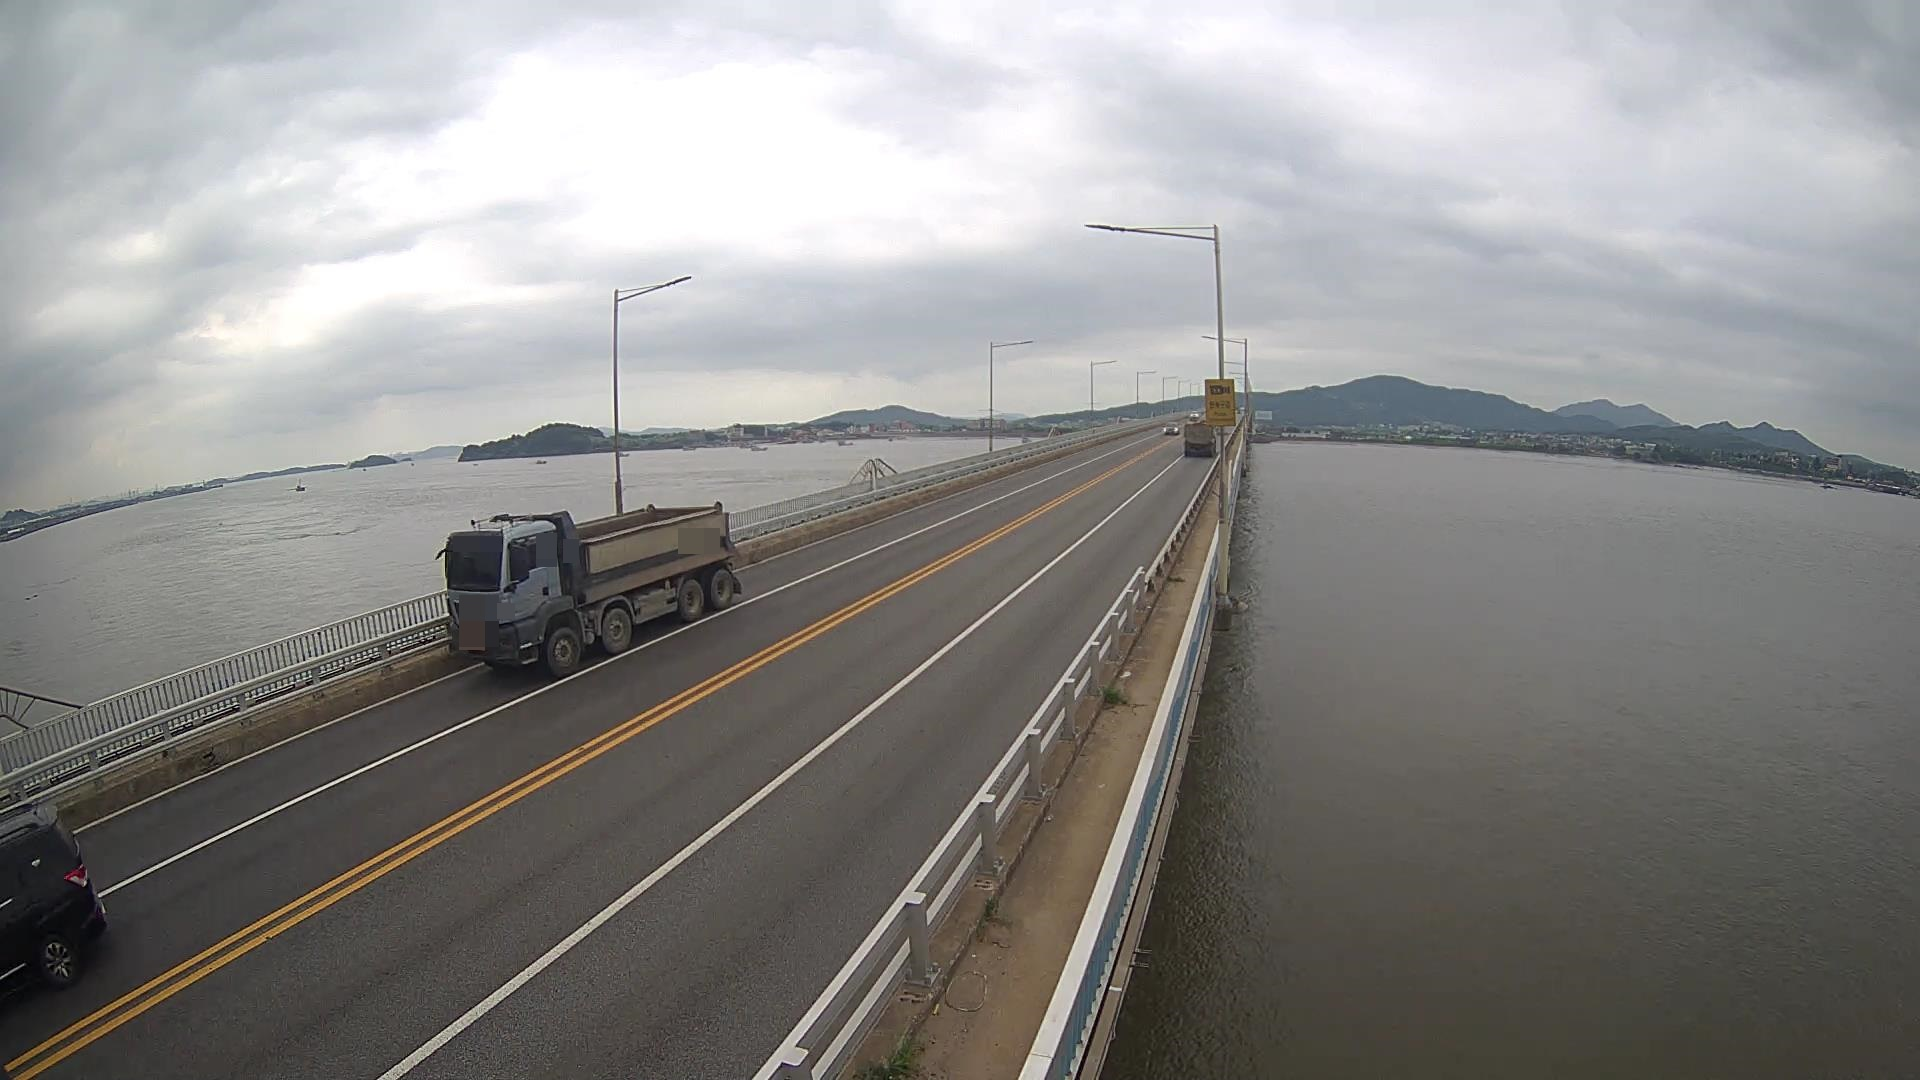정상차량: (435, 501, 742, 677)
